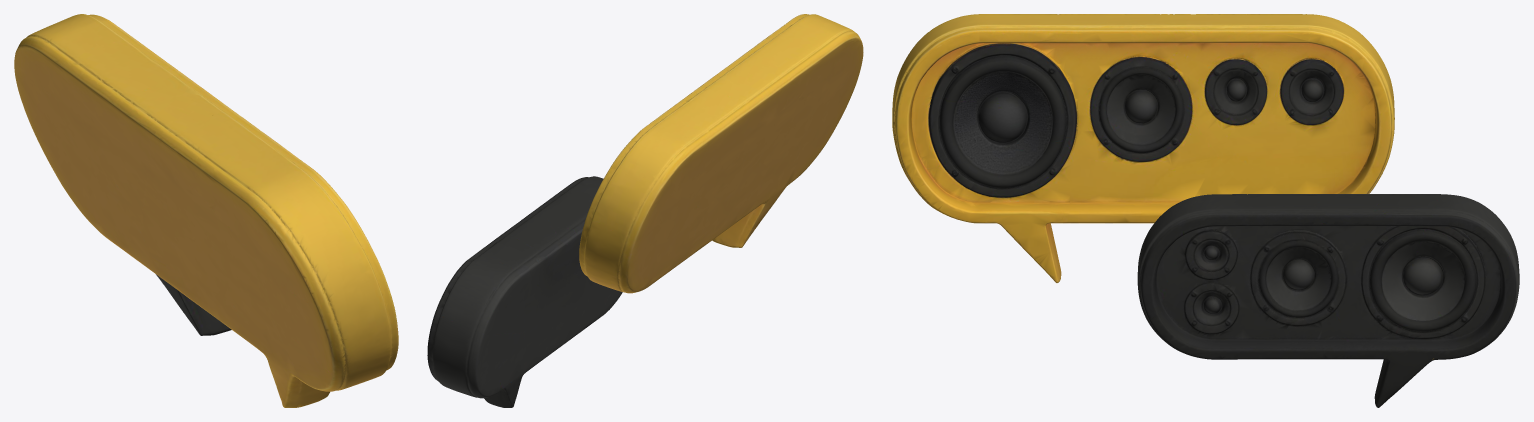
The model's file is csag-speaker.glb.
The picture shows the model from 3 angles, left to right: view 1: azimuth 30°, elevation 25°; view 2: azimuth 150°, elevation 25°; view 3: azimuth 270°, elevation 25°; orthographic projection. The views are drawn at different scales.
Visible parts, largest first — view 1: tripo_node_e4e60da5-60dd-4dec-951b-e4d5cb58289a; view 2: tripo_node_e4e60da5-60dd-4dec-951b-e4d5cb58289a; view 3: tripo_node_e4e60da5-60dd-4dec-951b-e4d5cb58289a.
Part boxes in pixels (box(x1,y1,x2,y2)): tripo_node_e4e60da5-60dd-4dec-951b-e4d5cb58289a: box(14, 14, 398, 407); tripo_node_e4e60da5-60dd-4dec-951b-e4d5cb58289a: box(427, 14, 863, 407); tripo_node_e4e60da5-60dd-4dec-951b-e4d5cb58289a: box(892, 14, 1519, 407).
Bounding box in the file's own units: 0.1967 × 0.3 × 0.5448.
Materials: 1 (1 with a texture image).
